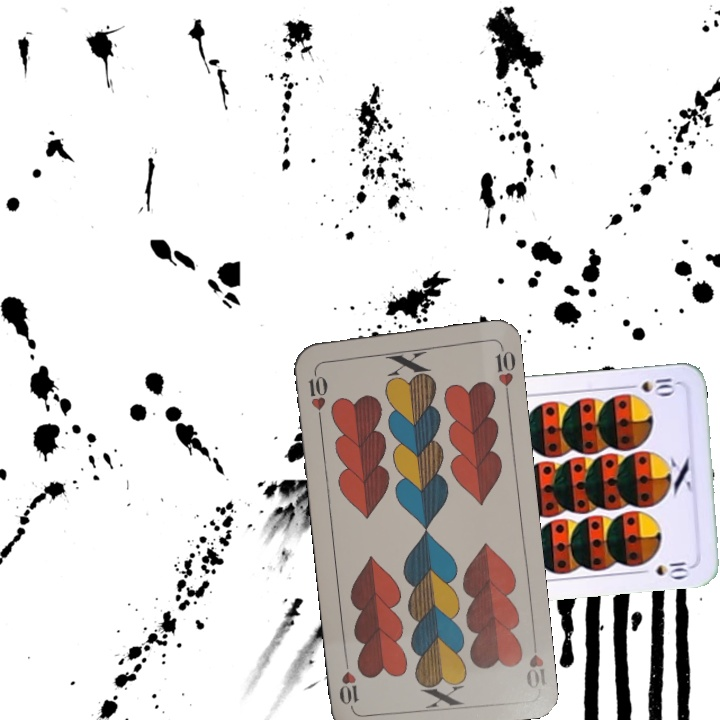H10: (522, 632, 549, 691), (304, 364, 330, 423)
S10: (621, 374, 680, 397)
